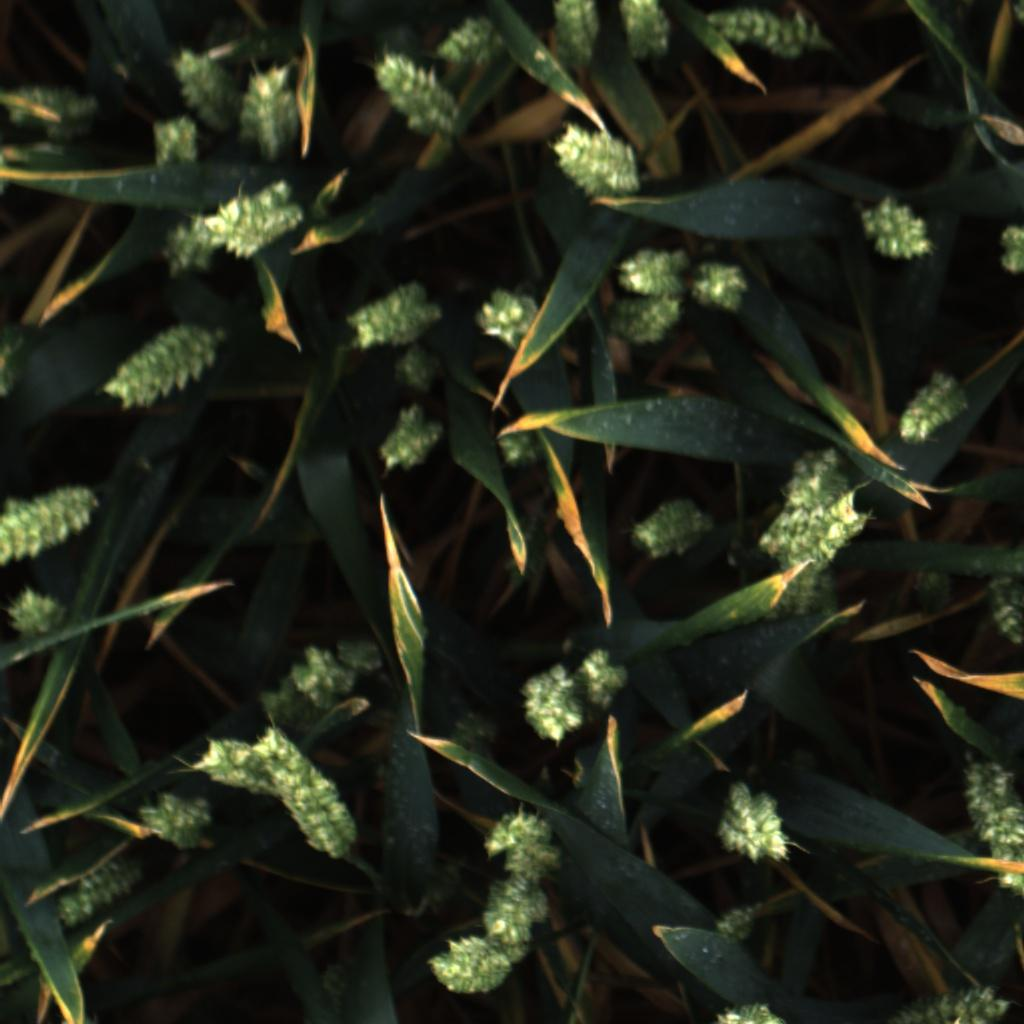0-0: (256, 724, 363, 860), (105, 315, 218, 413), (758, 494, 865, 575), (363, 51, 454, 144), (553, 116, 645, 207), (211, 179, 308, 264), (700, 0, 829, 60), (4, 68, 104, 145), (715, 775, 794, 870), (2, 482, 91, 566), (52, 850, 146, 929), (147, 201, 233, 284), (343, 277, 442, 347), (960, 751, 1024, 858), (894, 365, 974, 450), (475, 874, 554, 959), (240, 56, 304, 157), (627, 490, 715, 562), (421, 932, 514, 999), (250, 673, 363, 728), (861, 191, 939, 268), (478, 801, 563, 871), (517, 658, 585, 743), (136, 779, 216, 850), (891, 976, 1007, 1024), (778, 441, 855, 512), (373, 405, 443, 478), (134, 107, 208, 174), (545, 0, 606, 79), (610, 239, 692, 297), (169, 38, 236, 106), (194, 724, 265, 788), (569, 640, 633, 710), (473, 285, 543, 347), (604, 296, 684, 348), (293, 639, 359, 702), (611, 0, 672, 68), (432, 12, 501, 72), (686, 257, 756, 313), (6, 584, 68, 642), (980, 571, 1024, 650), (379, 351, 444, 400), (703, 904, 761, 947), (993, 213, 1024, 278)
